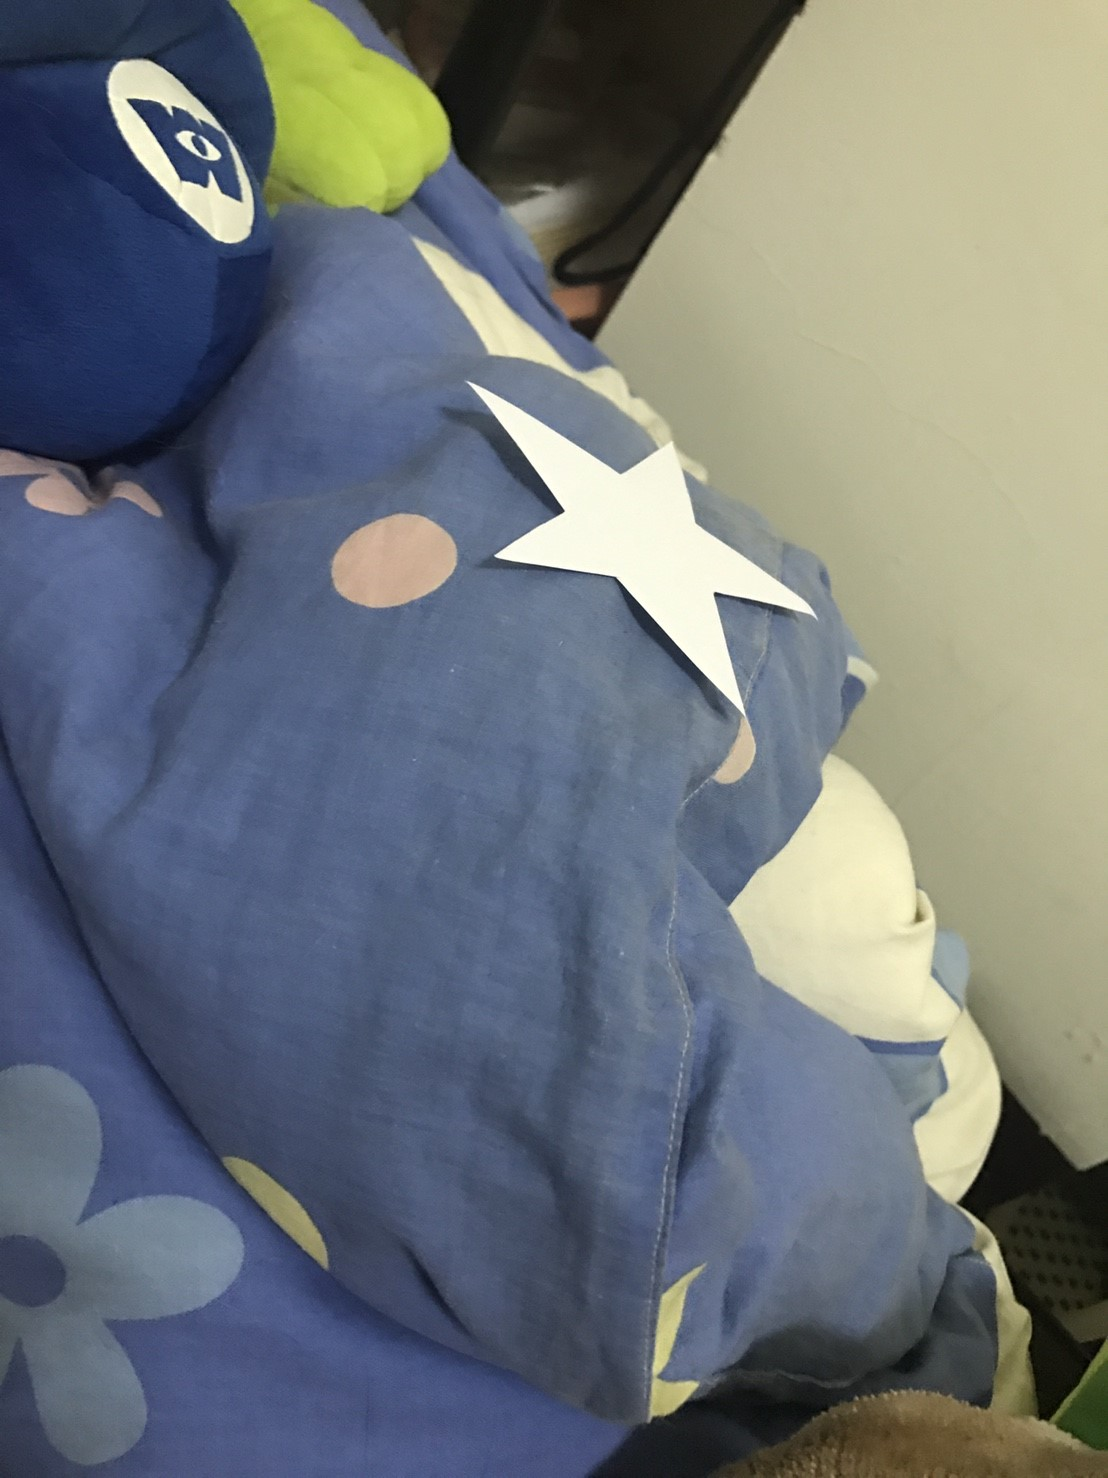star: (459, 333, 831, 733)
